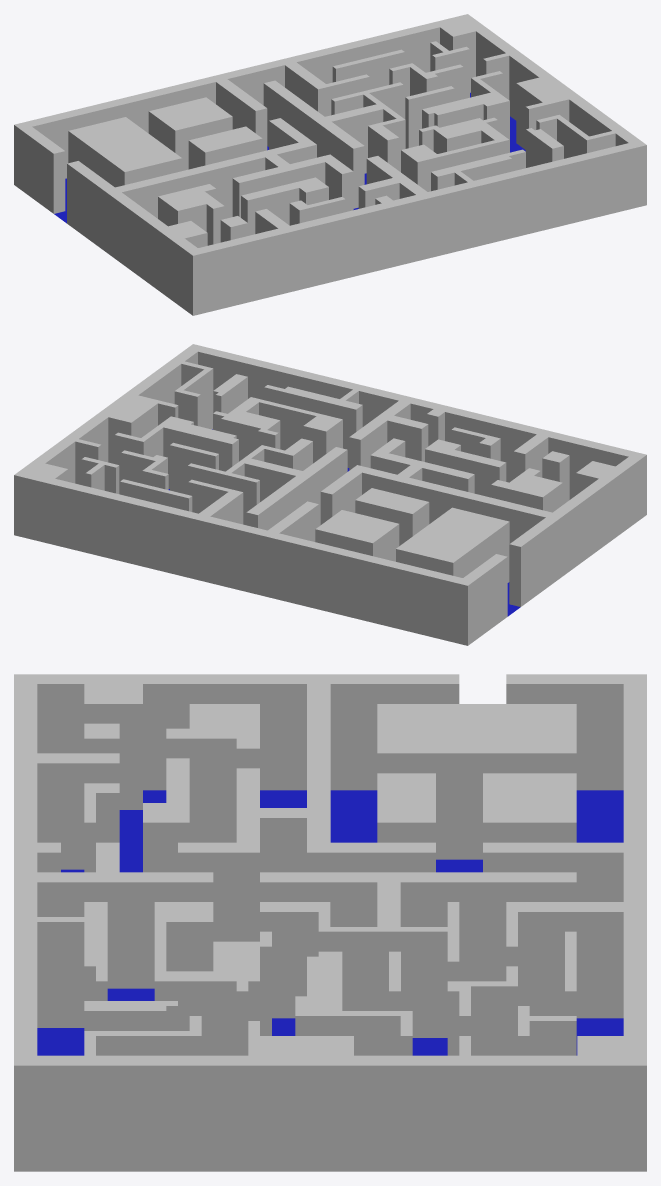
Rendered from map1.obj.
The picture shows the model from 3 angles, top to bottom: view 1: azimuth 30°, elevation 25°; view 2: azimuth 150°, elevation 25°; view 3: azimuth 270°, elevation 25°; orthographic projection. The views are drawn at different scales.
Parts seen in each view (by area): view 1: 立方体.022, 平面; view 2: 立方体.022; view 3: 立方体.022, 平面.
Part boxes in pixels (x1=…): 立方体.022: x1=14, y1=14, x2=646, y2=315; 平面: x1=54, y1=92, x2=525, y2=223; 立方体.022: x1=14, y1=344, x2=646, y2=645; 立方体.022: x1=14, y1=674, x2=646, y2=1171; 平面: x1=37, y1=790, x2=623, y2=1055.
Size of the model in its own units: 79 by 10 by 54.
